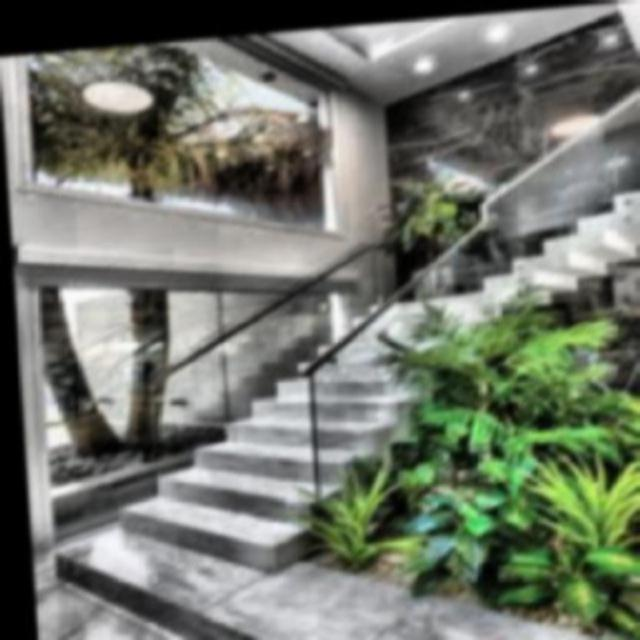stair: (92, 292, 485, 572)
